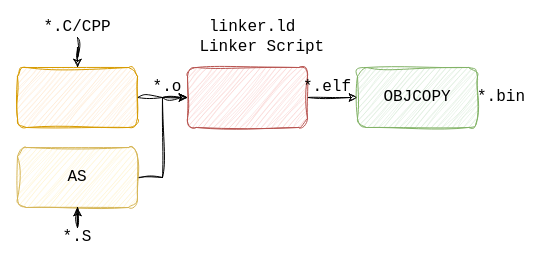
The diagram is 549 pixels wide and 264 high, and some of its shapes have lost their labels. The centre of each missing label's shape, as x and y in pixels:
"GCC" goes at (x=77, y=97).
"GCC/LD" goes at (x=247, y=97).
